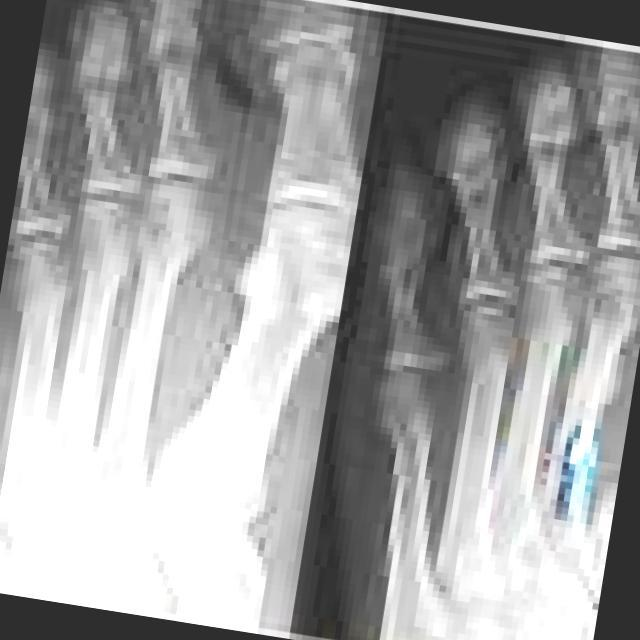Impact Fracture: (116, 493, 193, 609)
